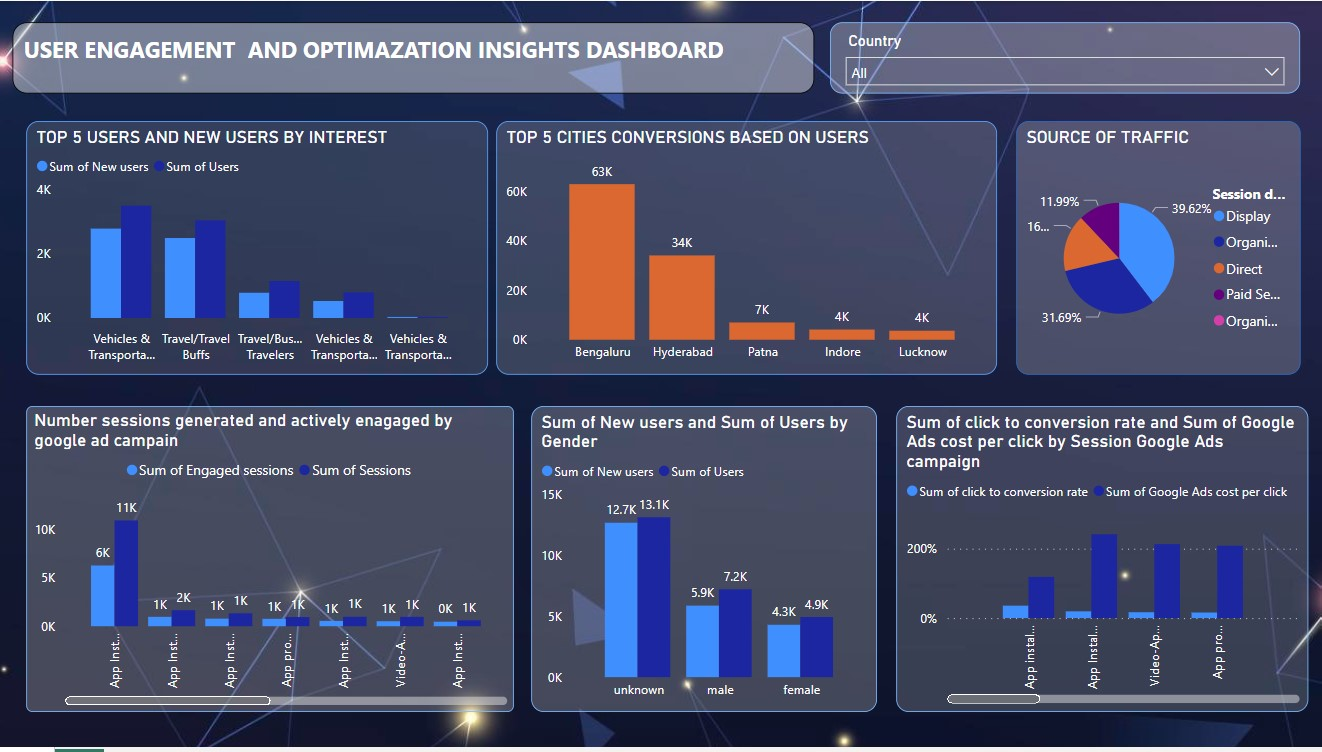

What the dashboard file says about the page in this screenshot:
{"tool":"powerbi","page":{"name":"Dashboard","canvas":[1280,720],"ordinal":0},"visuals":[{"type":"textbox","box":[12.5,20,773.8,68.8],"z":0},{"type":"clusteredColumnChart","title":"Number sessions generated and actively enagaged by google ad campain","fields":{"Category":["Table 10 (Google Ads Report).Session Google Ads campaign"],"Y":["Sum(Table 10 (Google Ads Report).Engaged sessions)","Sum(Table 10 (Google Ads Report).Sessions)"]},"box":[25,391.2,470,295],"z":1000},{"type":"clusteredColumnChart","fields":{"Y":["Sum(Table 8 (Gender Report).New users)","Sum(Table 8 (Gender Report).Users)"],"Category":["Table 8 (Gender Report).Gender"]},"box":[512.5,391.2,333.8,295],"z":2000},{"type":"clusteredColumnChart","title":"TOP 5 USERS AND NEW USERS BY INTEREST","fields":{"Category":["Table 9 (User By Interest).Interests"],"Y":["Sum(Table 9 (User By Interest).New users)","Sum(Table 9 (User By Interest).Users)"]},"box":[25,98.8,425,261.2],"z":3000},{"type":"pieChart","title":" SOURCE OF TRAFFIC","fields":{"Category":["Table 2 (Traffic Aquisition).Session default channel group"],"Y":["Sum(Table 2 (Traffic Aquisition).Users)"]},"box":[946.2,115,268.8,238.8],"z":4000},{"type":"slicer","fields":{"Values":["Table 6 (Demographics Report).Country"]},"box":[801.2,20,478.8,68.8],"z":5000},{"type":"clusteredColumnChart","title":"TOP 5 CITIES CONVERSIONS BASED ON USERS","fields":{"Category":["Table 7 (Citiwise Report).Town/City"],"Y":["Sum(Table 7 (Citiwise Report).Conversions)"]},"box":[466.2,115,461.2,245],"z":6000},{"type":"clusteredColumnChart","fields":{"Y":["Sum(Table 10 (Google Ads Report).click to conversion rate)","Sum(Table 10 (Google Ads Report).Google Ads cost per click)"],"Category":["Table 10 (Google Ads Report).Session Google Ads campaign"]},"box":[865,391.2,397.5,295],"z":7000}]}

Visuals, with their boxes in screenshot pixels (x1, y1, x2, y2), scaled from the page's 1280x720 canvas onto the 1322x752 screenshot:
textbox: x1=13 y1=21 x2=812 y2=93
"Number sessions generated and actively enagaged by google ad campain" clusteredColumnChart: x1=26 y1=409 x2=511 y2=717
clusteredColumnChart - Sum(Table 8 (Gender Report).New users) x Sum(Table 8 (Gender Report).Users): x1=529 y1=409 x2=874 y2=717
"TOP 5 USERS AND NEW USERS BY INTEREST" clusteredColumnChart: x1=26 y1=103 x2=465 y2=376
" SOURCE OF TRAFFIC" pieChart: x1=977 y1=120 x2=1255 y2=370
slicer - Table 6 (Demographics Report).Country: x1=827 y1=21 x2=1321 y2=93
"TOP 5 CITIES CONVERSIONS BASED ON USERS" clusteredColumnChart: x1=481 y1=120 x2=958 y2=376
clusteredColumnChart - Sum(Table 10 (Google Ads Report).click to conversion rate) x Sum(Table 10 (Google Ads Report).Google Ads cost per click): x1=893 y1=409 x2=1304 y2=717
